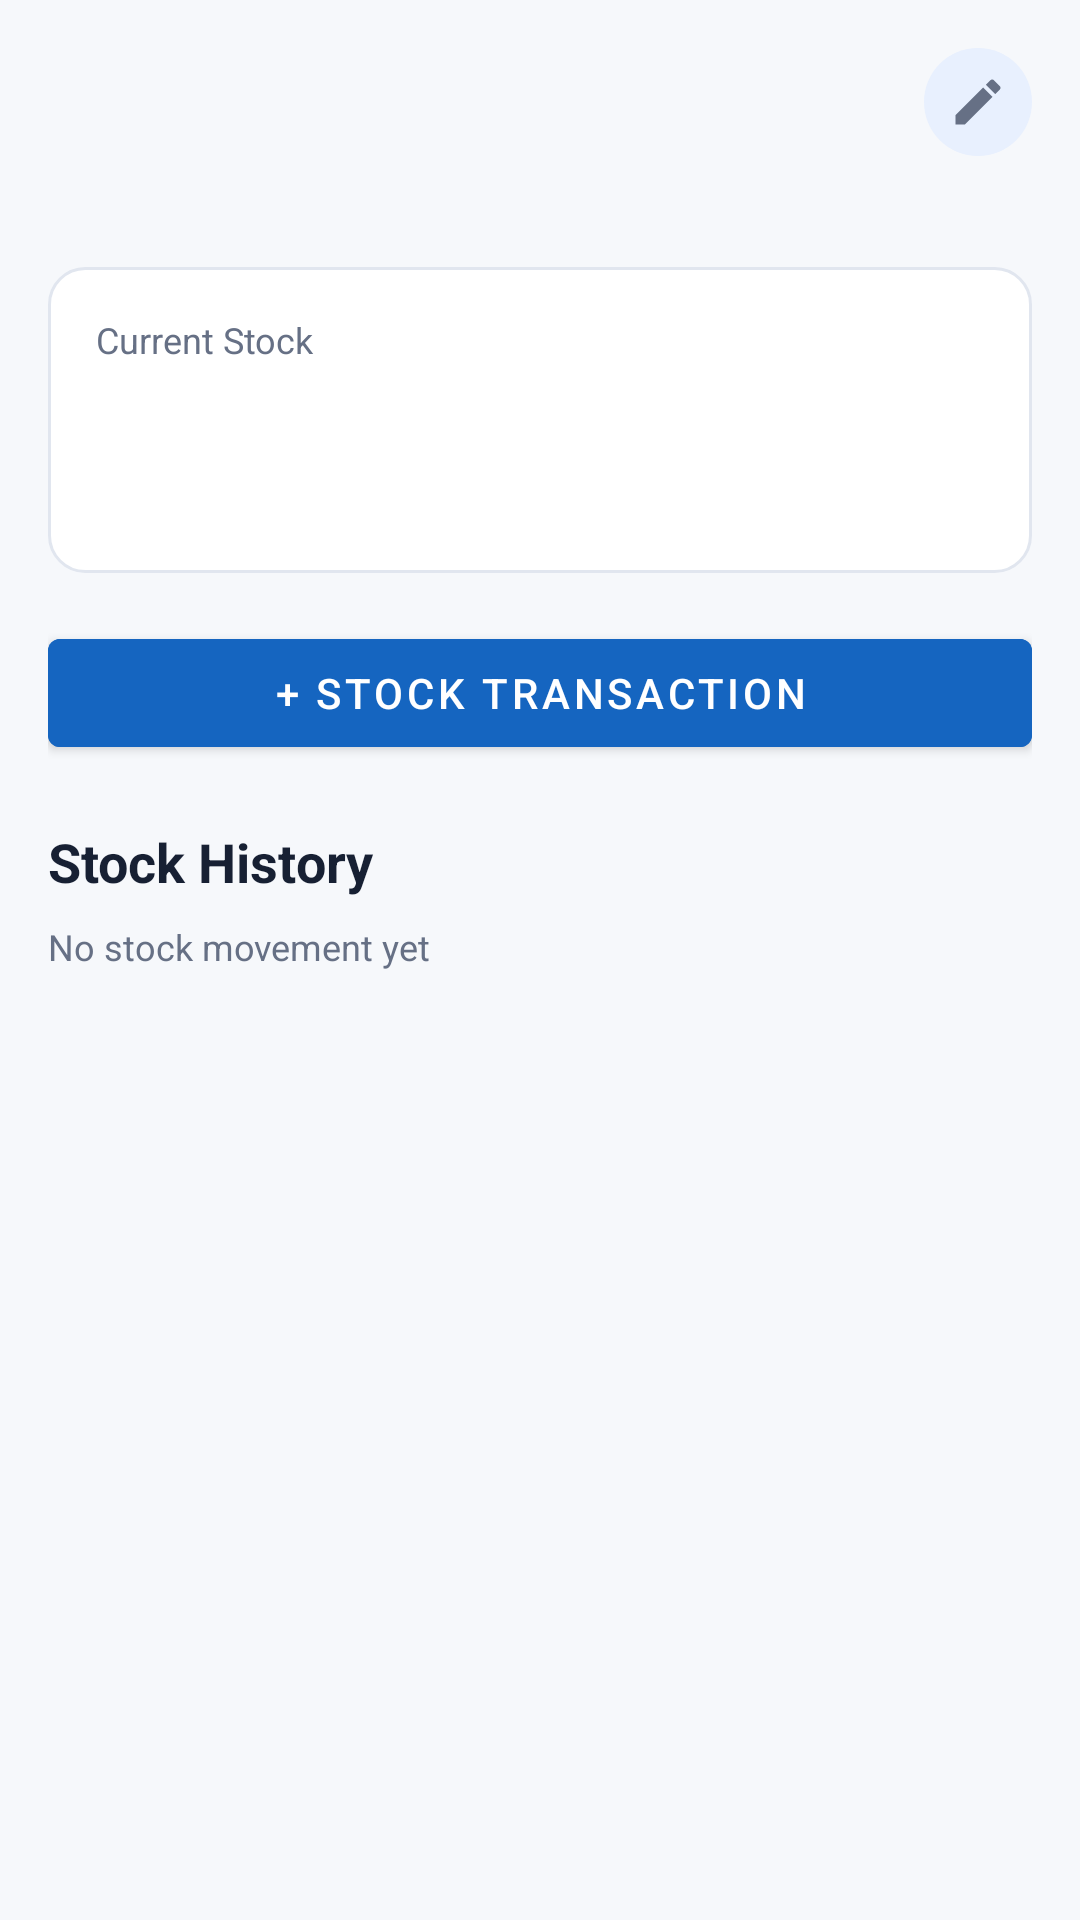

Screen size 1080 x 1920. Icon name, then its box in pixels as {"x1": x1, "y1": y1, "x2": x2, "y2": y2}:
edit: {"x1": 924, "y1": 48, "x2": 1032, "y2": 156}
